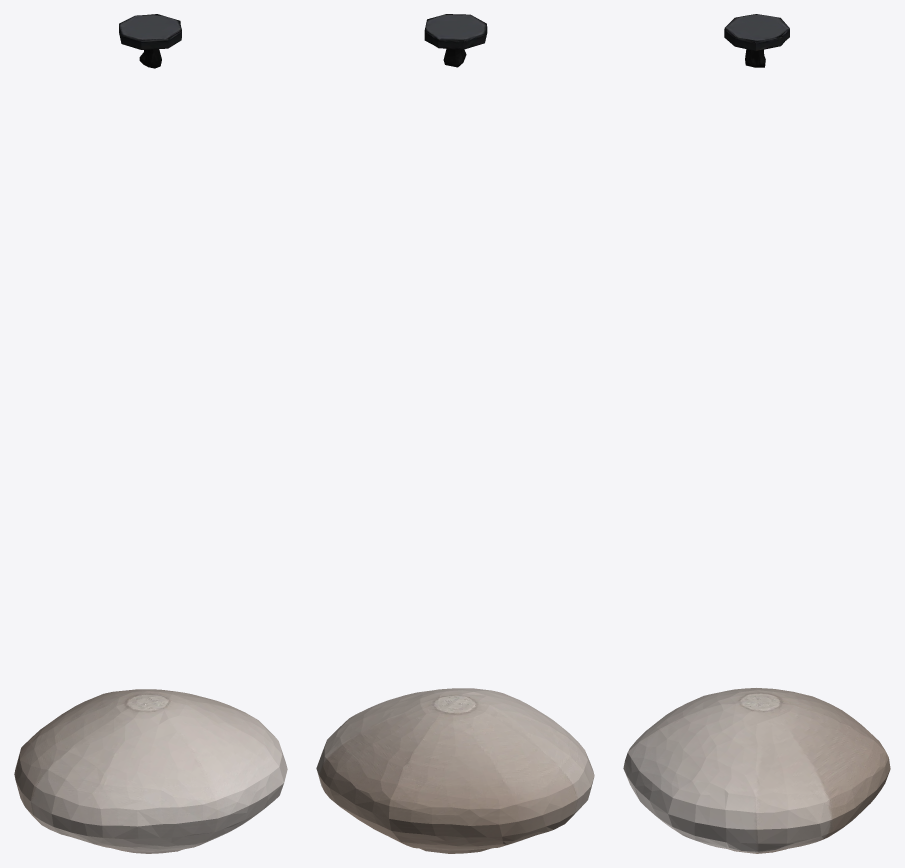
File: ast_3323727dd208.glb
3 renders of one model, left to right at view 1: azimuth 30°, elevation 25°; view 2: azimuth 150°, elevation 25°; view 3: azimuth 270°, elevation 25°, orthographic.
Visible parts, largest first — view 1: geometry_0; view 2: geometry_0; view 3: geometry_0.
Part boxes in pixels (x1,y1,x2,y2): geometry_0: [14, 14, 287, 853]; geometry_0: [316, 14, 594, 853]; geometry_0: [623, 14, 890, 853].
Bounding box in the file's own units: 0.309 × 0.999 × 0.296.
Materials: 1 (1 with a texture image).
